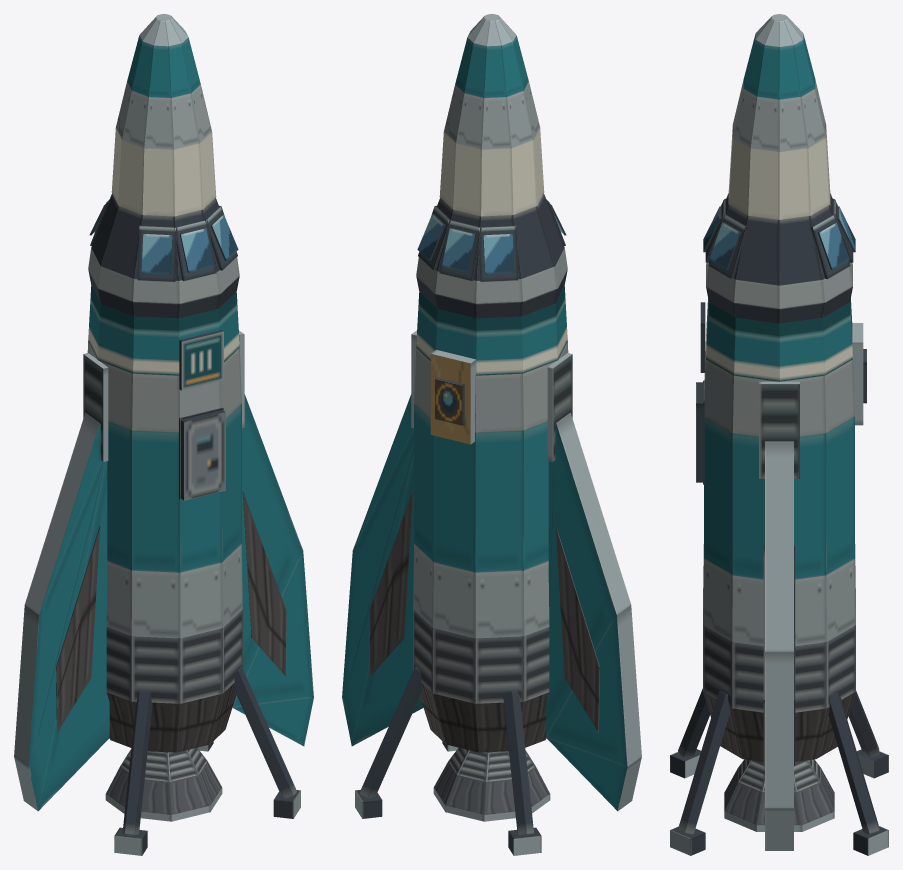
File: tier_3_rocket.obj
3 renders of one model, left to right at view 1: azimuth 30°, elevation 25°; view 2: azimuth 150°, elevation 25°; view 3: azimuth 270°, elevation 25°, orthographic.
Visible parts, largest first — view 1: airframe, access_hatch; view 2: airframe; view 3: airframe, access_hatch.
Part boxes in pixels (bbox=[...]): airframe: bbox=[14, 14, 313, 855]; access_hatch: bbox=[180, 409, 225, 500]; airframe: bbox=[342, 14, 641, 855]; airframe: bbox=[670, 14, 888, 855]; access_hatch: bbox=[696, 382, 702, 482].
Size of the model in its own units: 2 by 5.22 by 1.31.
